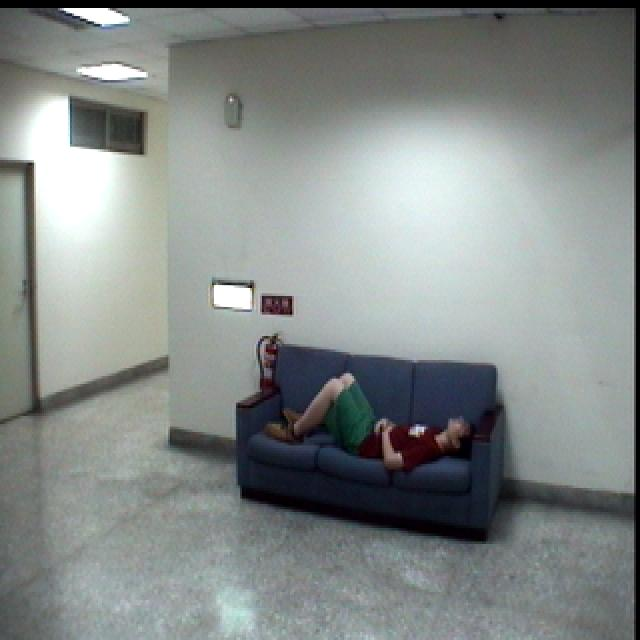lie: (253, 371, 474, 482)
